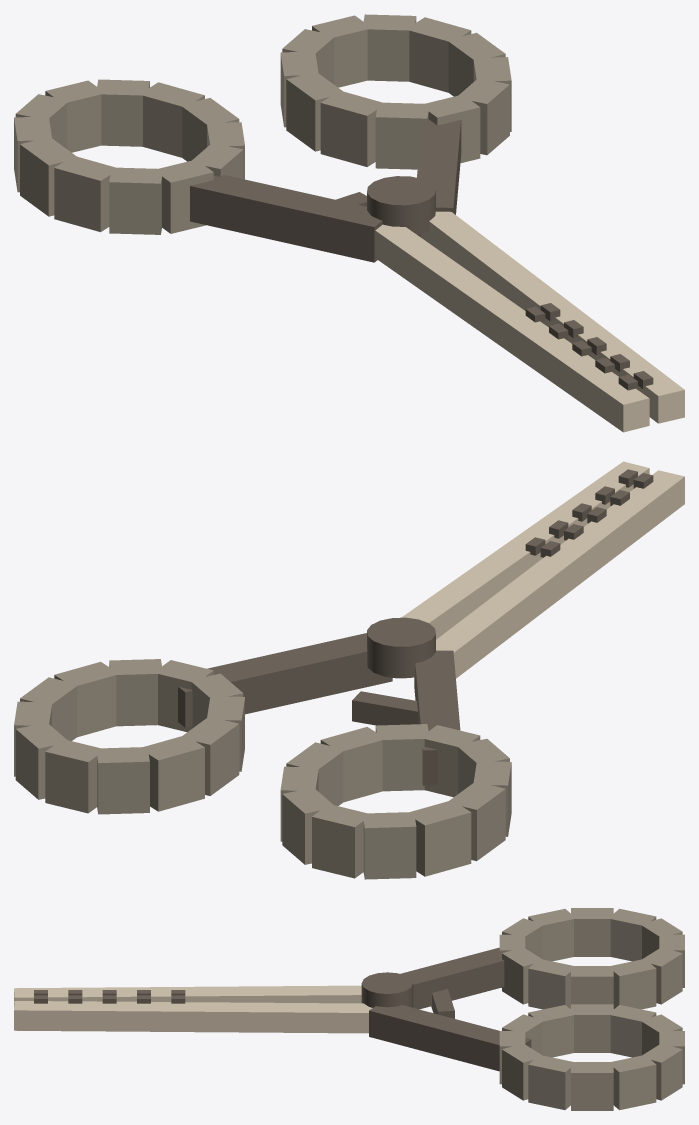
File: CMU3DCMHemostatMedicalSmallCloud.glb
The picture shows the model from 3 angles, top to bottom: view 1: azimuth 30°, elevation 25°; view 2: azimuth 150°, elevation 25°; view 3: azimuth 270°, elevation 25°; orthographic projection. The views are drawn at different scales.
Visible parts, largest first — view 1: separate jaw 0, curved shank 0, separate jaw 1, right open finger ring 07, left open finger ring 07, left open finger ring 08, metal pivot rivet, curved shank 1, right open finger ring 08, right open finger ring 02, left open finger ring 02, right open finger ring 01 (+17 smaller); view 2: separate jaw 0, curved shank 1, separate jaw 1, left open finger ring 05, right open finger ring 05, curved shank 0, left open finger ring 04, metal pivot rivet, right open finger ring 04, left open finger ring 03, right open finger ring 03, left open finger ring 11 (+18 smaller); view 3: separate jaw 1, curved shank 1, separate jaw 0, curved shank 0, right open finger ring 01, right open finger ring 12, right open finger ring 11, left open finger ring 01, left open finger ring 11, left open finger ring 06, right open finger ring 06, metal pivot rivet (+18 smaller).
Part boxes in pixels (x1,y1,x2,y2): separate jaw 0: (375,224,649,432); curved shank 0: (190,174,382,262); separate jaw 1: (420,211,684,423); right open finger ring 07: (320,90,385,166); left open finger ring 07: (54,156,119,232); left open finger ring 08: (109,167,163,234); metal pivot rivet: (367,176,435,235); curved shank 1: (417,119,461,236); right open finger ring 08: (375,102,429,169); right open finger ring 02: (362,14,416,81); left open finger ring 02: (96,79,149,146); right open finger ring 01: (406,17,471,92); separate jaw 0: (436,470,684,678); curved shank 1: (178,633,392,727); separate jaw 1: (401,461,649,639); left open finger ring 05: (406,800,471,876); right open finger ring 05: (144,735,204,811); curved shank 0: (414,650,460,785); left open finger ring 04: (363,812,416,879); metal pivot rivet: (367,617,435,678); right open finger ring 04: (97,747,149,814); left open finger ring 03: (312,804,371,878); right open finger ring 03: (45,740,105,813); left open finger ring 11: (320,727,385,802); separate jaw 1: (14,1001,372,1033); curved shank 1: (369,1005,531,1071); separate jaw 0: (14,985,361,1005); curved shank 0: (400,947,504,1009); right open finger ring 01: (608,1055,656,1110); right open finger ring 12: (571,1062,613,1110); right open finger ring 11: (528,1055,575,1109); left open finger ring 01: (608,959,656,1009); left open finger ring 11: (528,959,576,1009); left open finger ring 06: (571,908,613,956); right open finger ring 06: (571,1004,613,1052); metal pivot rivet: (361,972,413,1007).
Size of the model in its own units: 0.3635 by 0.0465 by 0.6256.
